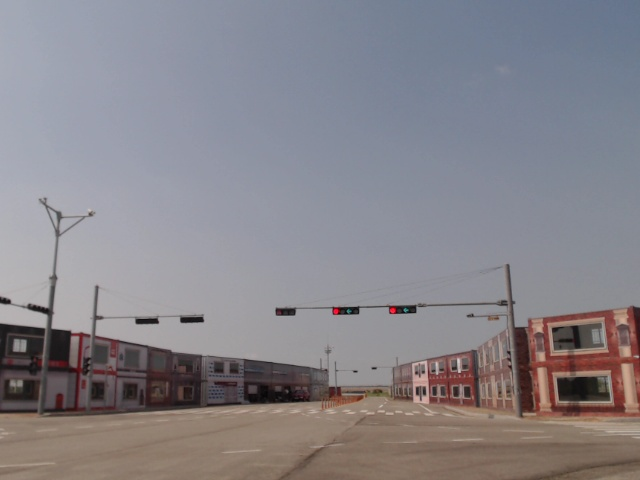left_green_4: (389, 306, 416, 314), (333, 308, 359, 315)
